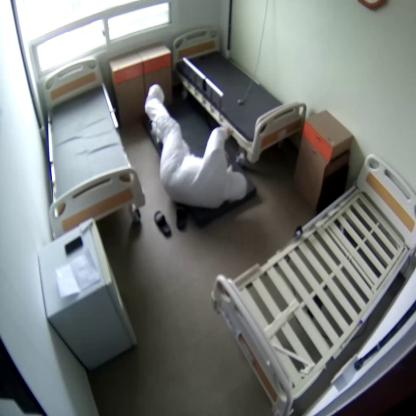Bed: (172, 27, 305, 162)
Person: (146, 88, 247, 206)
